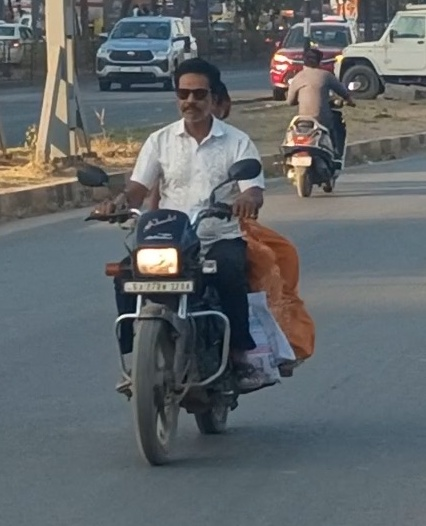BikeWithRider: (72, 53, 318, 469), (275, 43, 357, 201)
NoHelmet: (171, 56, 221, 123), (211, 77, 233, 122), (300, 46, 324, 70)
